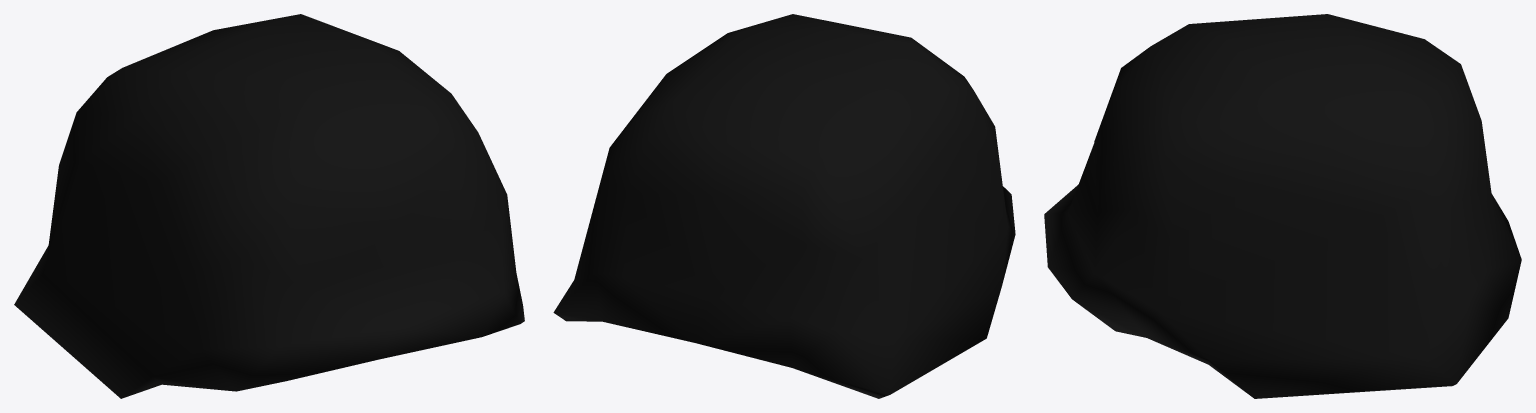
Rendered from german_steel_helmet_panzertruppe_relaxed_static.glb.
The picture shows the model from 3 angles, left to right: view 1: azimuth 30°, elevation 25°; view 2: azimuth 150°, elevation 25°; view 3: azimuth 270°, elevation 25°; orthographic projection. The views are drawn at different scales.
Parts seen in each view (by area): view 1: CC0_Steel_Helmet_Panzertruppe_Relaxed; view 2: CC0_Steel_Helmet_Panzertruppe_Relaxed; view 3: CC0_Steel_Helmet_Panzertruppe_Relaxed.
Boxes of the visible parts, left/top/right/bottom form: CC0_Steel_Helmet_Panzertruppe_Relaxed: left=14, top=14, right=524, bottom=398; CC0_Steel_Helmet_Panzertruppe_Relaxed: left=553, top=14, right=1015, bottom=398; CC0_Steel_Helmet_Panzertruppe_Relaxed: left=1044, top=14, right=1521, bottom=398.
Bounding box in the file's own units: 0.1823 × 0.1335 × 0.214.
1 material, 1 textured.
